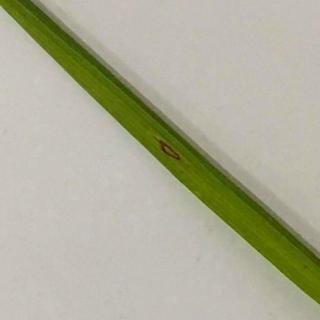Blast: (151, 136, 194, 174)
